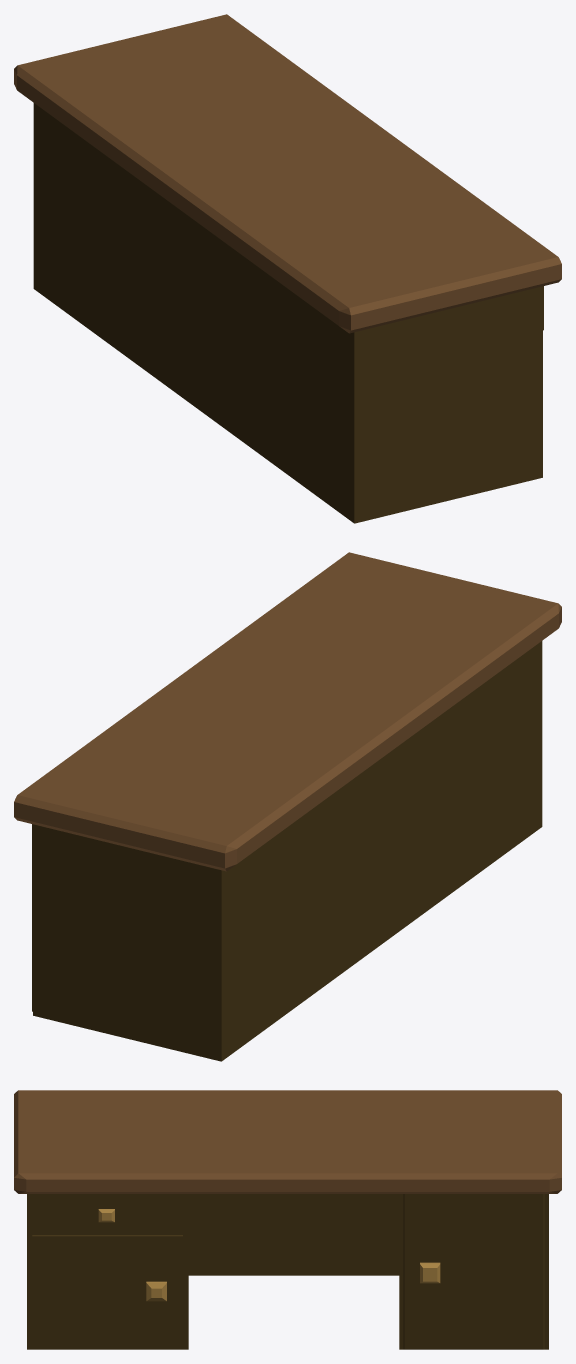
Rendered from Schreibtisch.fbx.
The picture shows the model from 3 angles, top to bottom: view 1: azimuth 30°, elevation 25°; view 2: azimuth 150°, elevation 25°; view 3: azimuth 270°, elevation 25°; orthographic projection. The views are drawn at different scales.
Visible parts, largest first — view 1: Cube; view 2: Cube; view 3: Cube.
Boxes of the visible parts, bbox=[...] form: Cube: bbox=[14, 14, 561, 523]; Cube: bbox=[14, 552, 561, 1061]; Cube: bbox=[14, 1090, 561, 1349].
Bounding box in the file's own units: 95.23 × 91.94 × 253.
